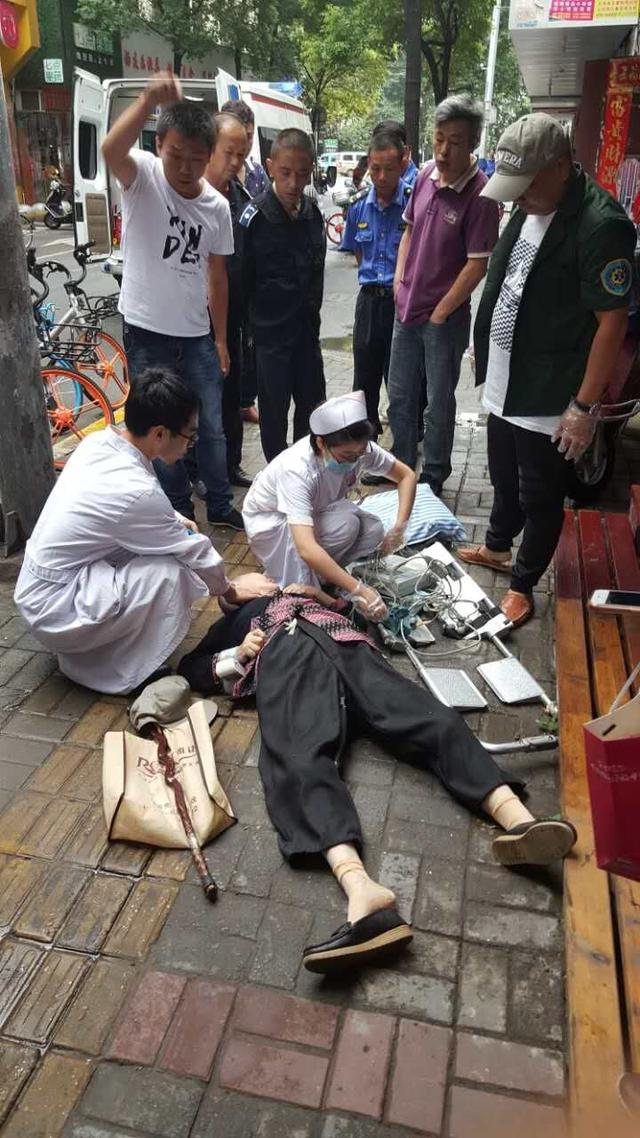10+: (1, 61, 640, 1000)
down: (202, 551, 587, 989)
